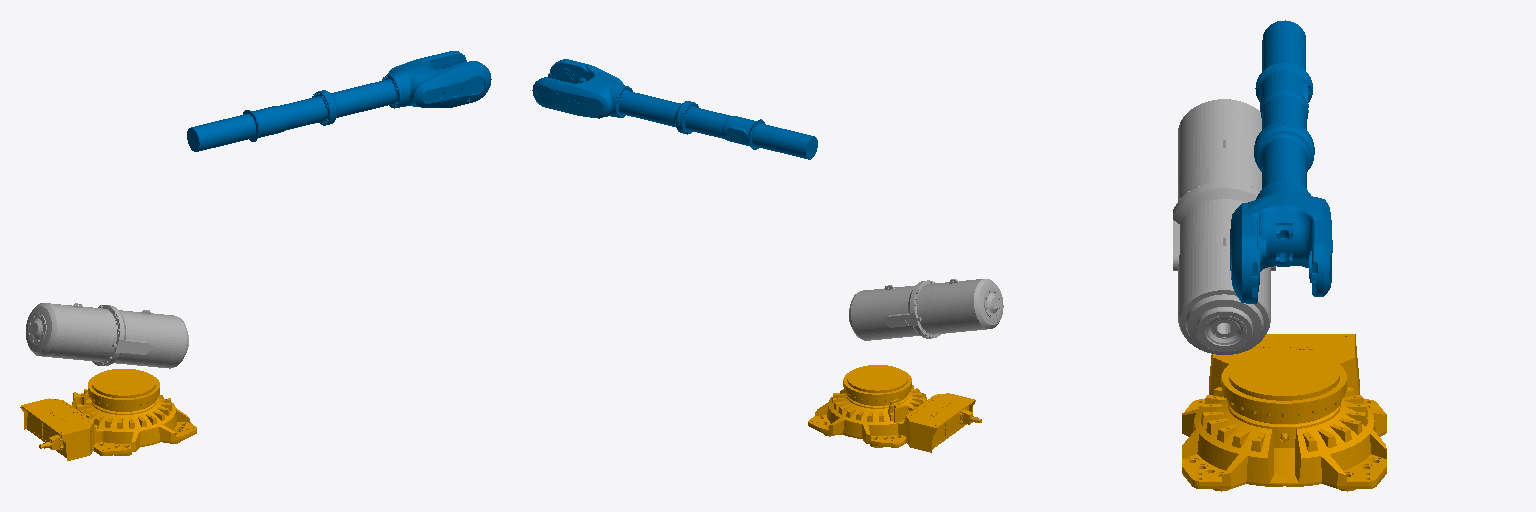
URDF robot description (IRB6750S_185_390_LID):
<?xml version="1.0" ?>
<robot name="IRB6750S_185_390_LID">

<link name="base_link">
  <inertial>
    <origin xyz="-0.11451110959592517 0.00015552070287478797 0.1370499382307424" rpy="0 0 0"/>
    <mass value="903.853880323414"/>
    <inertia ixx="32.499935" iyy="61.22909" izz="80.940564" ixy="-0.237684" iyz="-0.063313" ixz="-2.544137"/>
  </inertial>
  <visual>
    <origin xyz="0 0 0" rpy="0 0 0"/>
    <geometry>
      <mesh filename="meshes/base_link.stl" scale="0.001 0.001 0.001"/>
    </geometry>
  </visual>
  <collision>
    <origin xyz="0 0 0" rpy="0 0 0"/>
    <geometry>
      <mesh filename="meshes/base_link.stl" scale="0.001 0.001 0.001"/>
    </geometry>
  </collision>
</link>

<link name="IRB6750S_All_OC_00_LINK01_CAD_v1_1">
  <inertial>
    <origin xyz="0.30056558171836834 0.021248402558967868 0.1547641012631446" rpy="0 0 0"/>
    <mass value="855.1080095158879"/>
    <inertia ixx="35.394342" iyy="118.27198" izz="127.13701" ixy="-4.815187" iyz="-0.508123" ixz="-6.856775"/>
  </inertial>
  <visual>
    <origin xyz="-0.0 -0.0 -0.342" rpy="0 0 0"/>
    <geometry>
      <mesh filename="meshes/IRB6750S_All_OC_00_LINK01_CAD_v1_1.stl" scale="0.001 0.001 0.001"/>
    </geometry>
  </visual>
  <collision>
    <origin xyz="-0.0 -0.0 -0.342" rpy="0 0 0"/>
    <geometry>
      <mesh filename="meshes/IRB6750S_All_OC_00_LINK01_CAD_v1_1.stl" scale="0.001 0.001 0.001"/>
    </geometry>
  </collision>
</link>

<link name="IRB6750S_All_OC_00_LINK02_CAD_v1_1">
  <inertial>
    <origin xyz="0.04918203899572493 -0.12406941666076196 0.5996272377119412" rpy="0 0 0"/>
    <mass value="745.7860274622177"/>
    <inertia ixx="93.69397" iyy="99.688003" izz="13.769974" ixy="0.085665" iyz="7.121199" ixz="2.43981"/>
  </inertial>
  <visual>
    <origin xyz="-0.69 0.1535 -0.53" rpy="0 0 0"/>
    <geometry>
      <mesh filename="meshes/IRB6750S_All_OC_00_LINK02_CAD_v1_1.stl" scale="0.001 0.001 0.001"/>
    </geometry>
  </visual>
  <collision>
    <origin xyz="-0.69 0.1535 -0.53" rpy="0 0 0"/>
    <geometry>
      <mesh filename="meshes/IRB6750S_All_OC_00_LINK02_CAD_v1_1.stl" scale="0.001 0.001 0.001"/>
    </geometry>
  </collision>
</link>

<link name="IRB6750S_All_OC_00_LINK03_CAD_v1_1">
  <inertial>
    <origin xyz="-0.06362244557400576 0.2677319074005557 0.12348214168445226" rpy="0 0 0"/>
    <mass value="497.1042094540328"/>
    <inertia ixx="21.136416" iyy="18.108991" izz="22.242741" ixy="3.611816" iyz="-4.495566" ixz="2.934471"/>
  </inertial>
  <visual>
    <origin xyz="-0.69 0.265 -1.81" rpy="0 0 0"/>
    <geometry>
      <mesh filename="meshes/IRB6750S_All_OC_00_LINK03_CAD_v1_1.stl" scale="0.001 0.001 0.001"/>
    </geometry>
  </visual>
  <collision>
    <origin xyz="-0.69 0.265 -1.81" rpy="0 0 0"/>
    <geometry>
      <mesh filename="meshes/IRB6750S_All_OC_00_LINK03_CAD_v1_1.stl" scale="0.001 0.001 0.001"/>
    </geometry>
  </collision>
</link>

<link name="IRB6750S_All_390_OC_00_LINK04_CAD_v1_1">
  <inertial>
    <origin xyz="0.85814389619885 -0.00902975190144566 -8.577655973951437e-06" rpy="0 0 0"/>
    <mass value="593.0820849974"/>
    <inertia ixx="6.499506" iyy="229.860615" izz="232.707543" ixy="3.794376" iyz="0.001295" ixz="-0.011304"/>
  </inertial>
  <visual>
    <origin xyz="-0.977 -0.0 -2.01" rpy="0 0 0"/>
    <geometry>
      <mesh filename="meshes/IRB6750S_All_390_OC_00_LINK04_CAD_v1_1.stl" scale="0.001 0.001 0.001"/>
    </geometry>
  </visual>
  <collision>
    <origin xyz="-0.977 -0.0 -2.01" rpy="0 0 0"/>
    <geometry>
      <mesh filename="meshes/IRB6750S_All_390_OC_00_LINK04_CAD_v1_1.stl" scale="0.001 0.001 0.001"/>
    </geometry>
  </collision>
</link>

<link name="IRB6750S_All_390_OC_00_LINK05_CAD_v1_1">
  <inertial>
    <origin xyz="0.029405294014649197 -0.09016204252523362 -0.00228749066184486" rpy="0 0 0"/>
    <mass value="45.71412672440309"/>
    <inertia ixx="0.188991" iyy="0.431794" izz="0.47138" ixy="0.019118" iyz="0.004126" ixz="0.007646"/>
  </inertial>
  <visual>
    <origin xyz="-2.6125 -0.095 -2.01" rpy="0 0 0"/>
    <geometry>
      <mesh filename="meshes/IRB6750S_All_390_OC_00_LINK05_CAD_v1_1.stl" scale="0.001 0.001 0.001"/>
    </geometry>
  </visual>
  <collision>
    <origin xyz="-2.6125 -0.095 -2.01" rpy="0 0 0"/>
    <geometry>
      <mesh filename="meshes/IRB6750S_All_390_OC_00_LINK05_CAD_v1_1.stl" scale="0.001 0.001 0.001"/>
    </geometry>
  </collision>
</link>

<link name="IRB6750S_LID_185kg_390_OC_00_LINK06_CABLE_v1_1">
  <inertial>
    <origin xyz="0.09180442966014457 -0.0173386239495099 -0.002426976727571084" rpy="0 0 0"/>
    <mass value="29.063646140411308"/>
    <inertia ixx="0.165791" iyy="0.188207" izz="0.182075" ixy="0.002423" iyz="0.003303" ixz="-0.003067"/>
  </inertial>
  <visual>
    <origin xyz="-2.7775 -0.0 -2.01" rpy="0 0 0"/>
    <geometry>
      <mesh filename="meshes/IRB6750S_LID_185kg_390_OC_00_LINK06_CABLE_v1_1.stl" scale="0.001 0.001 0.001"/>
    </geometry>
  </visual>
  <collision>
    <origin xyz="-2.7775 -0.0 -2.01" rpy="0 0 0"/>
    <geometry>
      <mesh filename="meshes/IRB6750S_LID_185kg_390_OC_00_LINK06_CABLE_v1_1.stl" scale="0.001 0.001 0.001"/>
    </geometry>
  </collision>
</link>

<link name="IRB6750S_All_OC_00_CYL_CAD_v1_1">
  <inertial>
    <origin xyz="-0.020954995916233676 -0.19600000010635882 0.0068812405974623125" rpy="0 0 0"/>
    <mass value="891.4689007968218"/>
    <inertia ixx="23.108733" iyy="100.393696" izz="92.405514" ixy="-0.0" iyz="-0.0" ixz="25.175647"/>
  </inertial>
  <visual>
    <origin xyz="0.242035 0.0355 -0.832837" rpy="0 0 0"/>
    <geometry>
      <mesh filename="meshes/IRB6750S_All_OC_00_CYL_CAD_v1_1.stl" scale="0.001 0.001 0.001"/>
    </geometry>
  </visual>
  <collision>
    <origin xyz="0.242035 0.0355 -0.832837" rpy="0 0 0"/>
    <geometry>
      <mesh filename="meshes/IRB6750S_All_OC_00_CYL_CAD_v1_1.stl" scale="0.001 0.001 0.001"/>
    </geometry>
  </collision>
</link>

<joint name="j1" type="continuous">
  <origin xyz="0.0 0.0 0.342" rpy="0 0 0"/>
  <parent link="base_link"/>
  <child link="IRB6750S_All_OC_00_LINK01_CAD_v1_1"/>
  <axis xyz="0.0 0.0 1.0"/>
</joint>

<joint name="j2" type="continuous">
  <origin xyz="0.69 -0.1535 0.188" rpy="0 0 0"/>
  <parent link="IRB6750S_All_OC_00_LINK01_CAD_v1_1"/>
  <child link="IRB6750S_All_OC_00_LINK02_CAD_v1_1"/>
  <axis xyz="0.0 -1.0 0.0"/>
</joint>

<joint name="j3" type="continuous">
  <origin xyz="0.0 -0.1115 1.28" rpy="0 0 0"/>
  <parent link="IRB6750S_All_OC_00_LINK02_CAD_v1_1"/>
  <child link="IRB6750S_All_OC_00_LINK03_CAD_v1_1"/>
  <axis xyz="0.0 1.0 0.0"/>
</joint>

<joint name="j4" type="continuous">
  <origin xyz="0.287 0.265 0.2" rpy="0 0 0"/>
  <parent link="IRB6750S_All_OC_00_LINK03_CAD_v1_1"/>
  <child link="IRB6750S_All_390_OC_00_LINK04_CAD_v1_1"/>
  <axis xyz="1.0 0.0 0.0"/>
</joint>

<joint name="j5" type="continuous">
  <origin xyz="1.6355 0.095 0.0" rpy="0 0 0"/>
  <parent link="IRB6750S_All_390_OC_00_LINK04_CAD_v1_1"/>
  <child link="IRB6750S_All_390_OC_00_LINK05_CAD_v1_1"/>
  <axis xyz="-0.0 -1.0 -0.0"/>
</joint>

<joint name="j6" type="continuous">
  <origin xyz="0.165 -0.095 0.0" rpy="0 0 0"/>
  <parent link="IRB6750S_All_390_OC_00_LINK05_CAD_v1_1"/>
  <child link="IRB6750S_LID_185kg_390_OC_00_LINK06_CABLE_v1_1"/>
  <axis xyz="1.0 0.0 0.0"/>
</joint>

<joint name="counter_cylinder" type="revolute">
  <origin xyz="-0.242035 -0.0355 0.490837" rpy="0 0 0"/>
  <parent link="IRB6750S_All_OC_00_LINK01_CAD_v1_1"/>
  <child link="IRB6750S_All_OC_00_CYL_CAD_v1_1"/>
  <axis xyz="0.0 -1.0 0.0"/>
  <limit upper="0.0" lower="0.0" effort="100" velocity="100"/>
</joint>

</robot>

--- Render facts (derived) ---
The picture shows the robot from 3 angles, left to right: view 1: azimuth 30°, elevation 25°; view 2: azimuth 150°, elevation 25°; view 3: azimuth 270°, elevation 25°; orthographic projection.
Model IRB6750S_185_390_LID with 8 links and 7 joints (1 revolute, 6 continuous), rooted at base_link, posed every joint at zero.
Visible links, largest first — view 1: IRB6750S_All_390_OC_00_LINK04_CAD_v1_1, base_link, IRB6750S_All_OC_00_CYL_CAD_v1_1; view 2: base_link, IRB6750S_All_390_OC_00_LINK04_CAD_v1_1, IRB6750S_All_OC_00_CYL_CAD_v1_1; view 3: base_link, IRB6750S_All_OC_00_CYL_CAD_v1_1, IRB6750S_All_390_OC_00_LINK04_CAD_v1_1.
Boxes of the visible links, left/top/right/bottom form: IRB6750S_All_390_OC_00_LINK04_CAD_v1_1: left=187, top=51, right=491, bottom=151; base_link: left=20, top=369, right=196, bottom=460; IRB6750S_All_OC_00_CYL_CAD_v1_1: left=26, top=303, right=188, bottom=368; base_link: left=808, top=365, right=981, bottom=452; IRB6750S_All_390_OC_00_LINK04_CAD_v1_1: left=532, top=59, right=817, bottom=159; IRB6750S_All_OC_00_CYL_CAD_v1_1: left=849, top=279, right=1003, bottom=340; base_link: left=1182, top=334, right=1386, bottom=491; IRB6750S_All_OC_00_CYL_CAD_v1_1: left=1173, top=99, right=1275, bottom=354; IRB6750S_All_390_OC_00_LINK04_CAD_v1_1: left=1230, top=20, right=1332, bottom=303.
Bounding box of the posed robot: 3.6 × 0.829 × 2.15 m (x, y, z).
Meshes: 8 distinct files referenced, 3 mesh visuals loaded (3 binary STL); not drawn: 5 (reference not matched to a file when rendering).